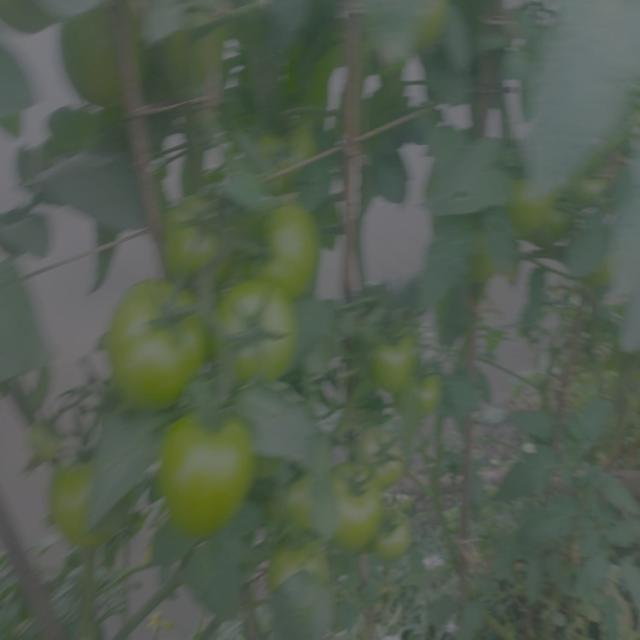tomato: (101, 273, 206, 413), (158, 407, 255, 538), (212, 285, 303, 392), (252, 203, 331, 287), (243, 106, 323, 181), (328, 461, 384, 563), (163, 195, 229, 276), (44, 457, 105, 535), (267, 456, 322, 537), (506, 178, 572, 240), (367, 332, 421, 394), (373, 509, 415, 557), (569, 164, 612, 210), (369, 432, 409, 477), (272, 544, 306, 589), (417, 366, 446, 410)
